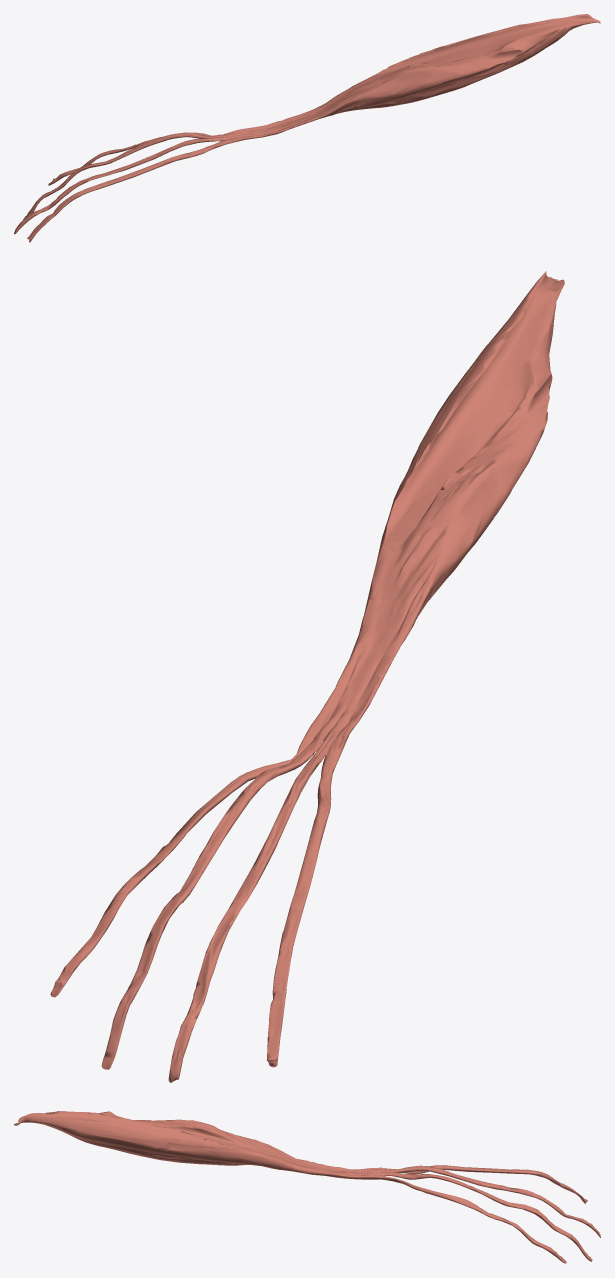
The picture shows the model from 3 angles, top to bottom: view 1: azimuth 90°, elevation 25°; view 2: azimuth 150°, elevation 25°; view 3: azimuth 270°, elevation 25°; orthographic projection. The views are drawn at different scales.
Visible parts, largest first — view 1: 右侧指深屈肌; view 2: 右侧指深屈肌; view 3: 右侧指深屈肌.
Part boxes in pixels (x1,y1,x2,y2): 右侧指深屈肌: [14, 14, 600, 242]; 右侧指深屈肌: [50, 271, 564, 1082]; 右侧指深屈肌: [14, 1111, 600, 1263].
Bounding box in the file's own units: 0.1569 × 0.1798 × 0.5378.
